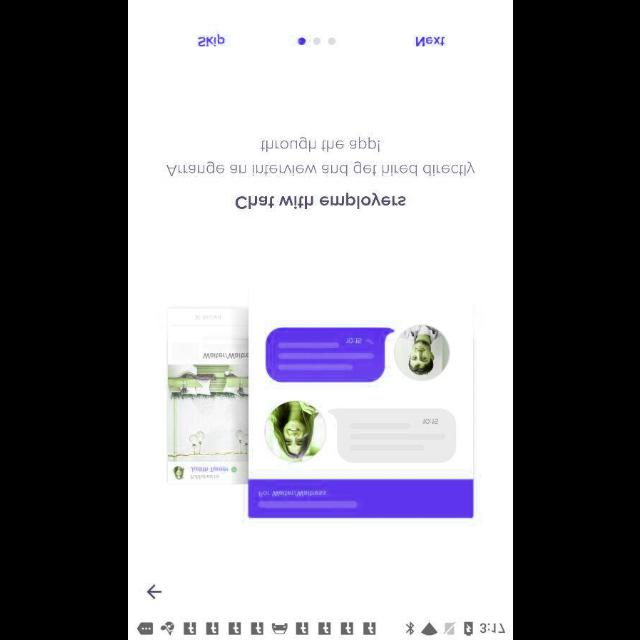icon: (146, 583, 162, 599)
image: (166, 308, 474, 518)
pageindicator: (297, 36, 335, 46)
text: (166, 136, 474, 178), (234, 191, 406, 209), (198, 34, 225, 46), (416, 37, 444, 47)
uppertaskbar: (128, 617, 512, 639)
